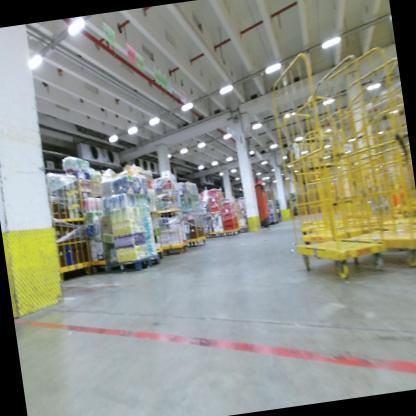pallet: (220, 201, 235, 214), (207, 195, 222, 205), (223, 216, 237, 225)
pallet_truck: (248, 171, 272, 227)
small_load_carrier: (204, 186, 222, 200), (220, 201, 236, 213), (220, 209, 237, 220), (209, 203, 222, 215), (221, 223, 239, 231), (209, 196, 224, 205), (222, 217, 238, 225)
